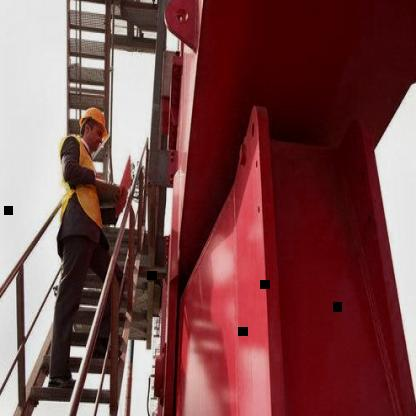helmet: (78, 99, 113, 138)
